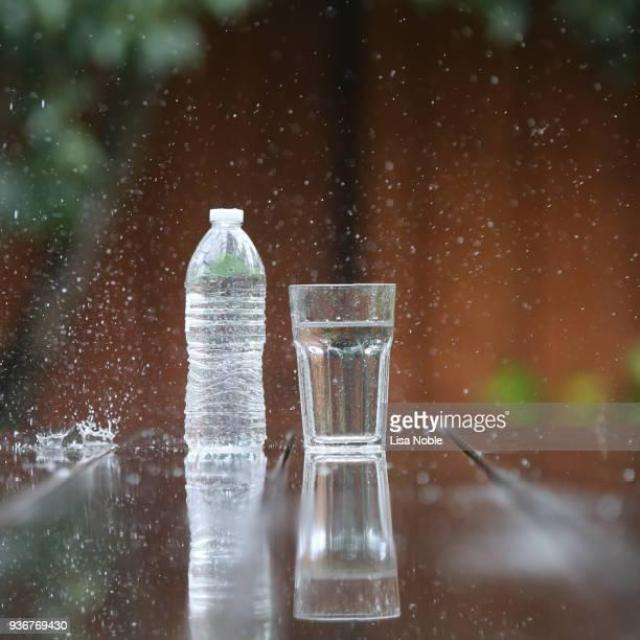bottle: (178, 199, 272, 463)
